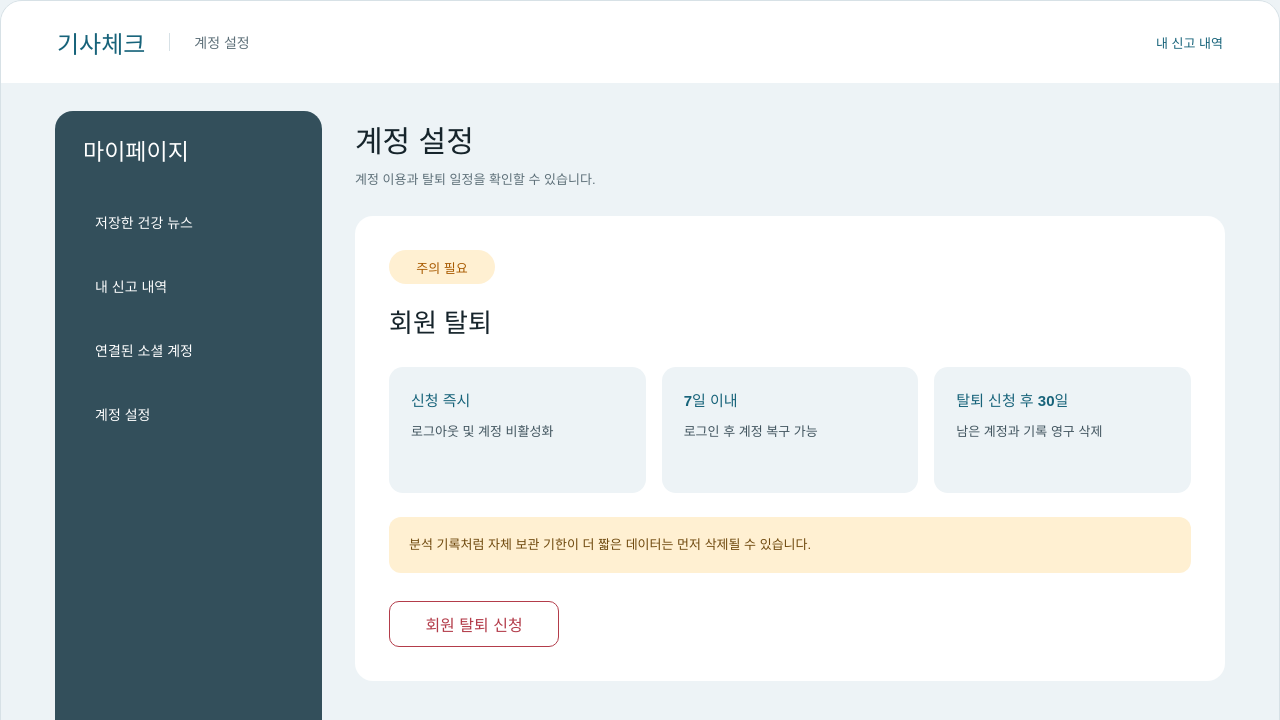
Test: App › 계정 설정에서 확인 후 탈퇴 신청 일정을 표시한다
Expected: the heading "계정 설정" is shown, x1=355 y1=125 x2=474 y2=158
Click the button "회원 탈퇴 신청".
click(474, 624)  # box x1=389 y1=600 x2=559 y2=646
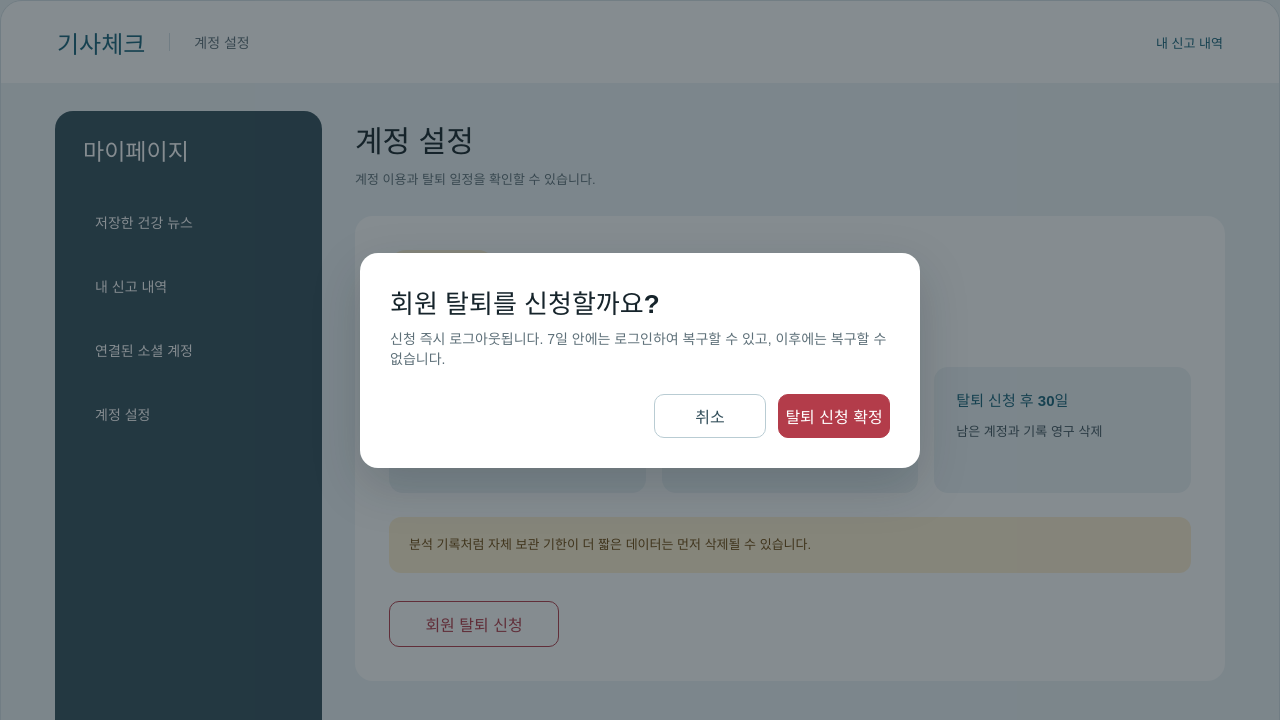
Result: the heading "회원 탈퇴를 신청할까요?" is shown at x1=390 y1=288 x2=660 y2=318
Click the button "탈퇴 신청 확정".
click(834, 416)  # box x1=778 y1=394 x2=890 y2=438
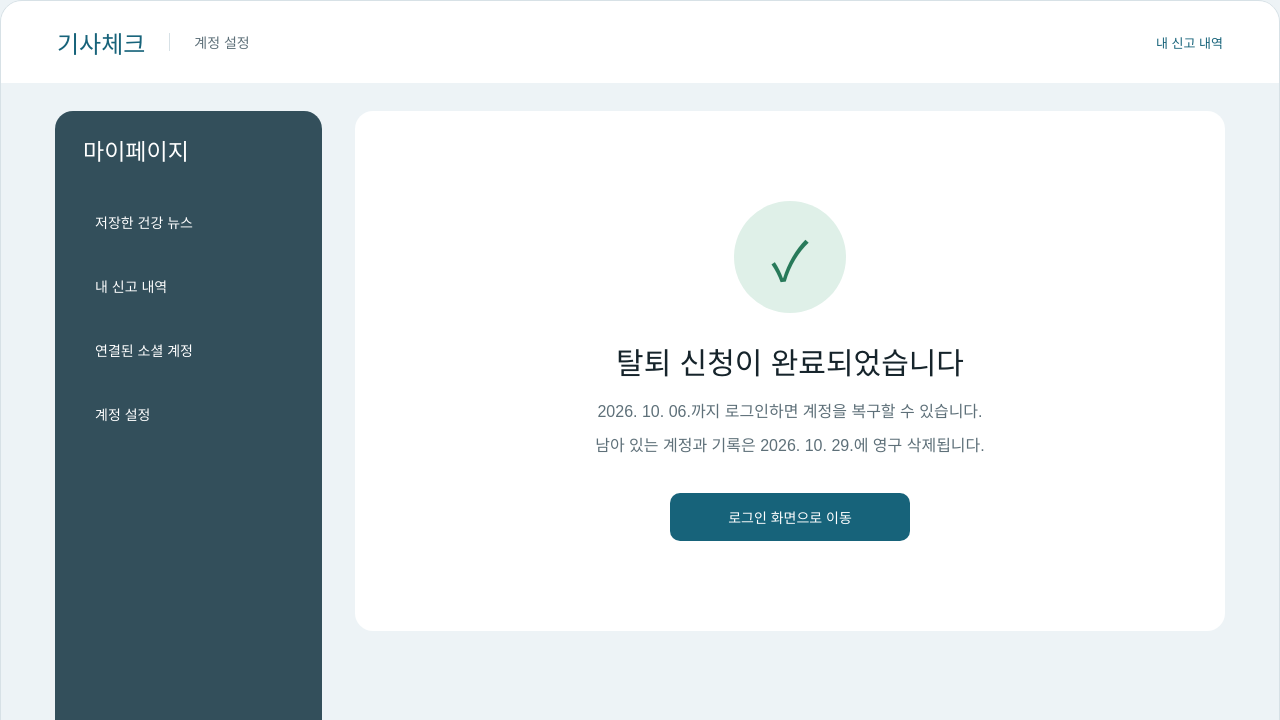
Result: the heading "탈퇴 신청이 완료되었습니다" is shown at x1=616 y1=339 x2=964 y2=383
Result: the text "2026. 10. 06.까지 로그인하면 계정을 복구할 수 있습니다." is shown at x1=598 y1=400 x2=983 y2=424
Result: the text "남아 있는 계정과 기록은 2026. 10. 29.에 영구 삭제됩니다." is shown at x1=595 y1=434 x2=985 y2=458
